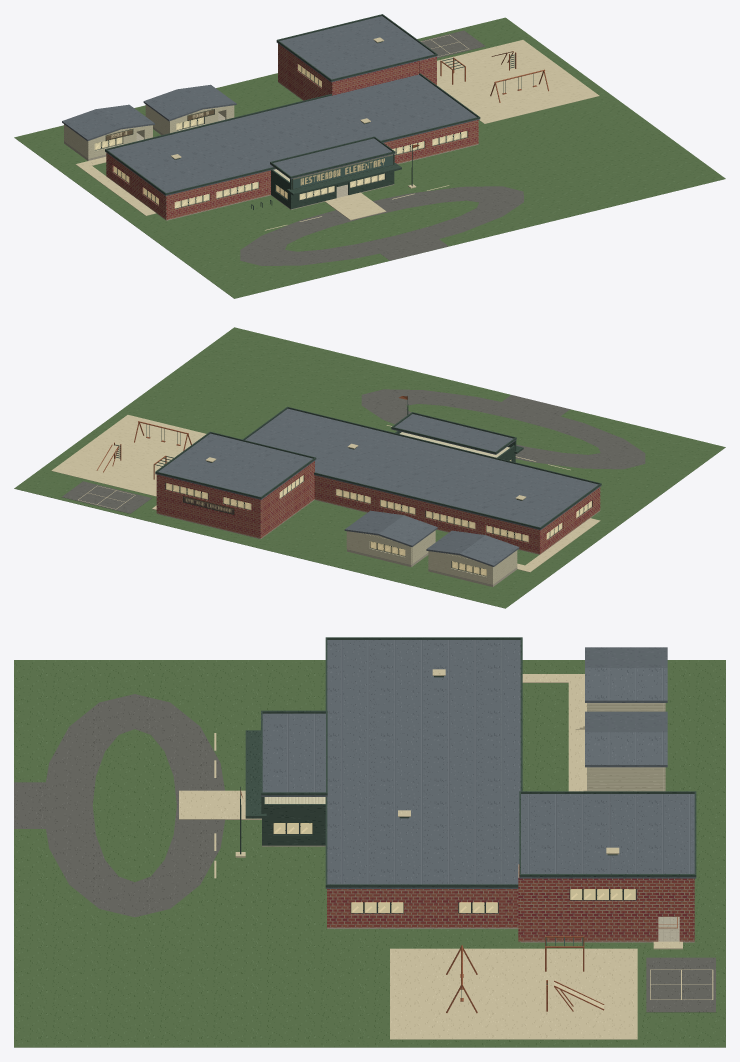
File: westmeadow-1990-far.glb
3 views of the same model, one above another, from view 1: azimuth 30°, elevation 25°; view 2: azimuth 150°, elevation 25°; view 3: azimuth 270°, elevation 25° (orthographic). The views are drawn at different scales.
Parts seen in each view (by area): view 1: lot, building_shell, portable_a, portable_b, sign_name; view 2: lot, building_shell, portable_a, portable_b; view 3: lot, building_shell, portable_b, portable_a.
Part boxes in pixels (x1,y1,x2,y2): lot: [14, 17, 725, 298]; building_shell: [105, 14, 480, 220]; portable_a: [62, 104, 154, 160]; portable_b: [143, 84, 236, 135]; sign_name: [292, 154, 393, 189]; lot: [14, 327, 725, 608]; building_shell: [152, 406, 601, 554]; portable_a: [426, 530, 519, 586]; portable_b: [344, 510, 437, 567]; lot: [14, 660, 725, 1047]; building_shell: [245, 637, 696, 949]; portable_b: [575, 711, 667, 791]; portable_a: [575, 647, 667, 729].
Size of what is drawn, in the model's own units: 85 by 7.13 by 66.
11 materials, 11 textured.
